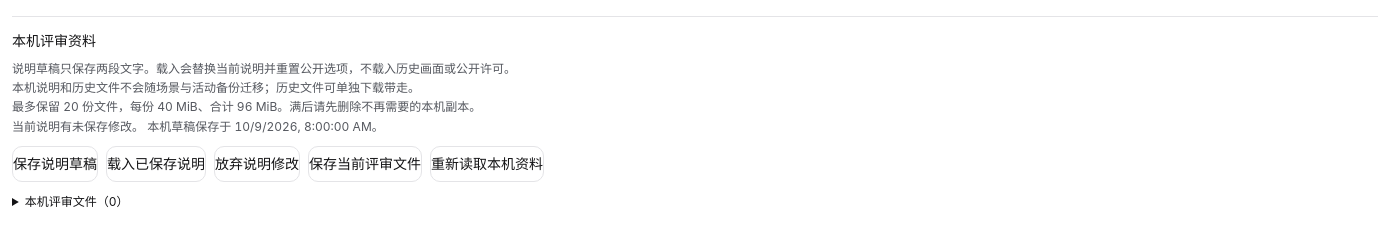
Test: local review library panel › retains input after a concurrent draft rejection and obtains a fresh CAS revision on retry
Click the button "保存说明草稿" at [55, 164], box [12,146,98,182]
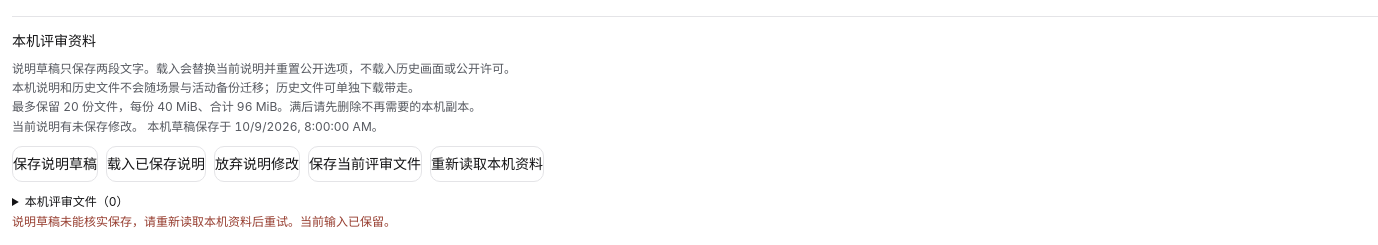
Check: the text "当前说明有未保存修改。 本机草稿保存于 10/9/2026, 8:00:00 AM。" is shown, box [12,119,384,134]
Check: the message "说明草稿未能核实保存，请重新读取本机资料后重试。当前输入已保留。" is shown, box [12,214,396,229]
Click the button "重新读取本机资料" at [487, 164], box [430,146,544,182]
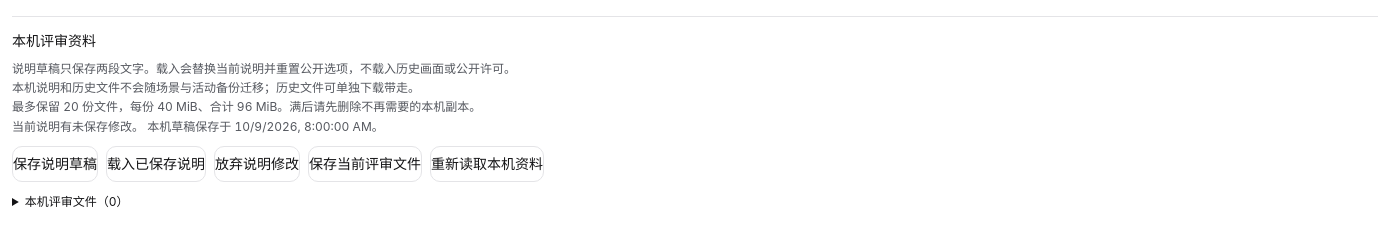
Click the button "保存说明草稿" at [55, 164], box [12,146,98,182]
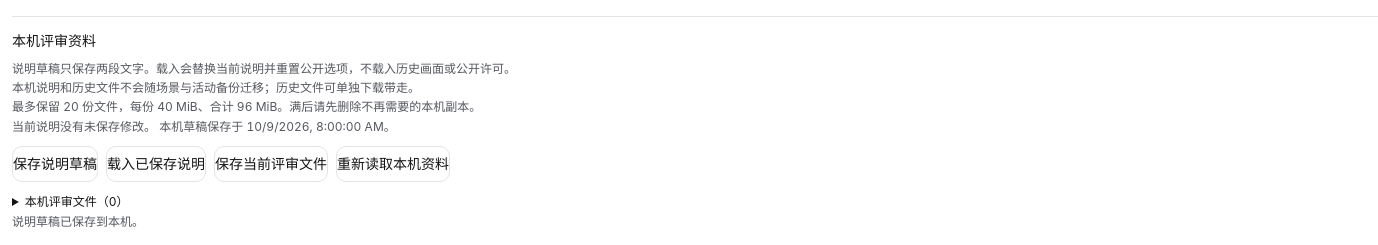
Check: the text "说明草稿已保存到本机。" is shown, box [12,214,144,229]
